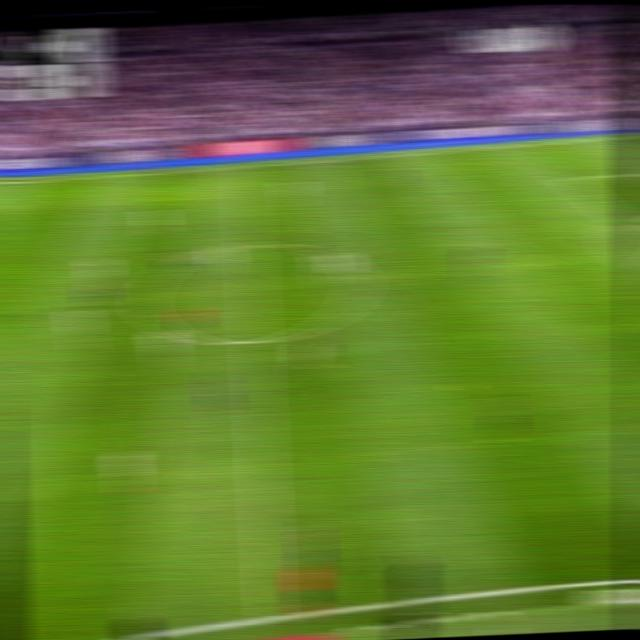bigarea_top_inner: (557, 171, 579, 185)
halfcircle_bottom: (241, 327, 270, 354)
halfcircle_top: (236, 232, 264, 255)
midline_bottom_intersection: (254, 599, 288, 631)
midline_top_intersection: (233, 159, 257, 173)
top_arc_area_intersection: (609, 212, 633, 226)
